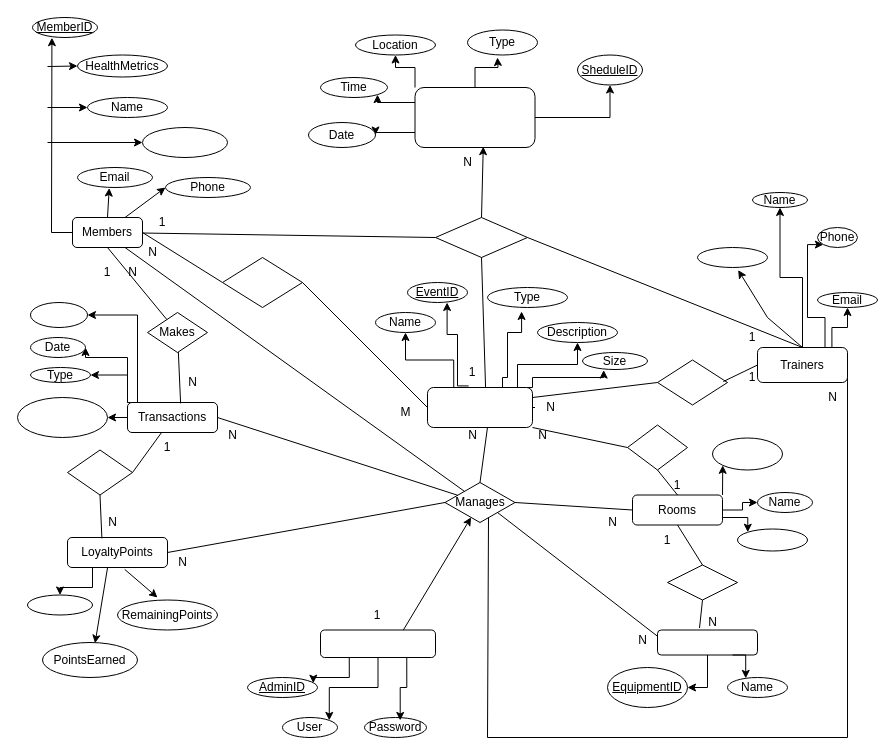
This 895x756 diagram has some shape labels left out. Here are the shapes that lost their labels. From the top down, the centre of each, then its label:
At point (474, 117): "Schedules".
At point (185, 142): "FitnessGoals".
At point (481, 237): "Have".
At point (732, 257): "TrainerID".
At point (262, 282): "Attends".
At point (59, 315): "Amount".
At point (692, 382): "Teaches".
At point (62, 417): "TransactionID".
At point (479, 407): "Event".
At point (657, 447): "Uses".
At point (747, 453): "RoomID".
At point (99, 472): "earns".
At point (772, 539): "Capacity".
At point (702, 582): "Held".
At point (59, 604): "LoyaltyID".
At point (378, 643): "Admin".
At point (707, 642): "Equipment".
